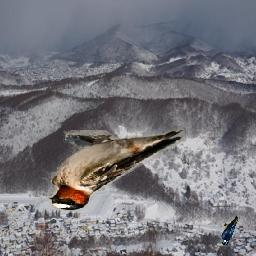Swallow: (48, 130, 185, 212), (222, 215, 239, 245)
